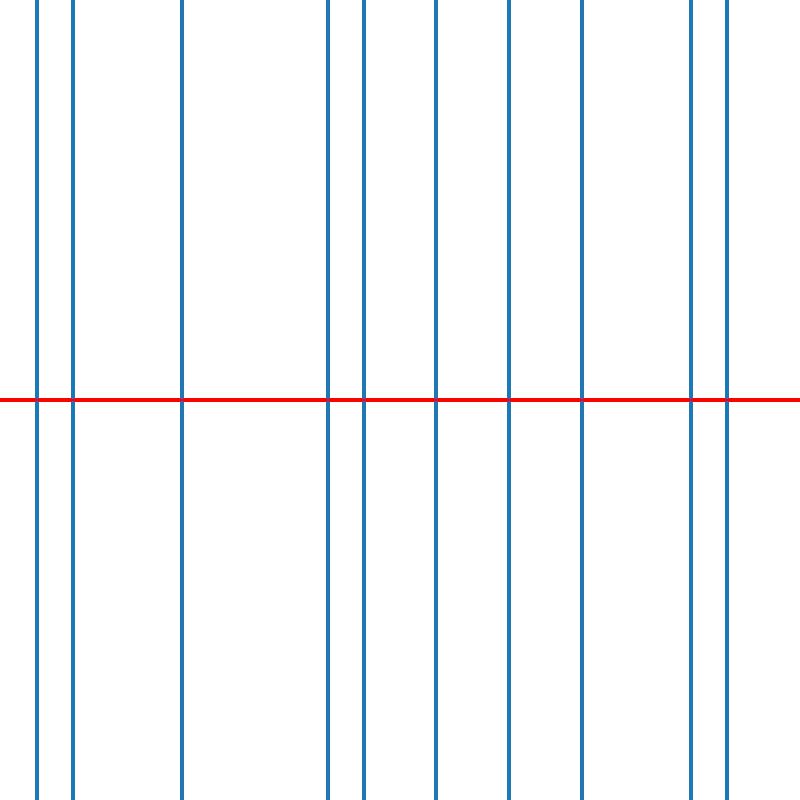root: (32, 396, 40, 404), (432, 396, 440, 404), (323, 396, 330, 404), (578, 396, 585, 404), (360, 396, 367, 404), (505, 396, 512, 404), (687, 396, 694, 404), (178, 396, 185, 404), (69, 396, 76, 404), (723, 396, 730, 404)
